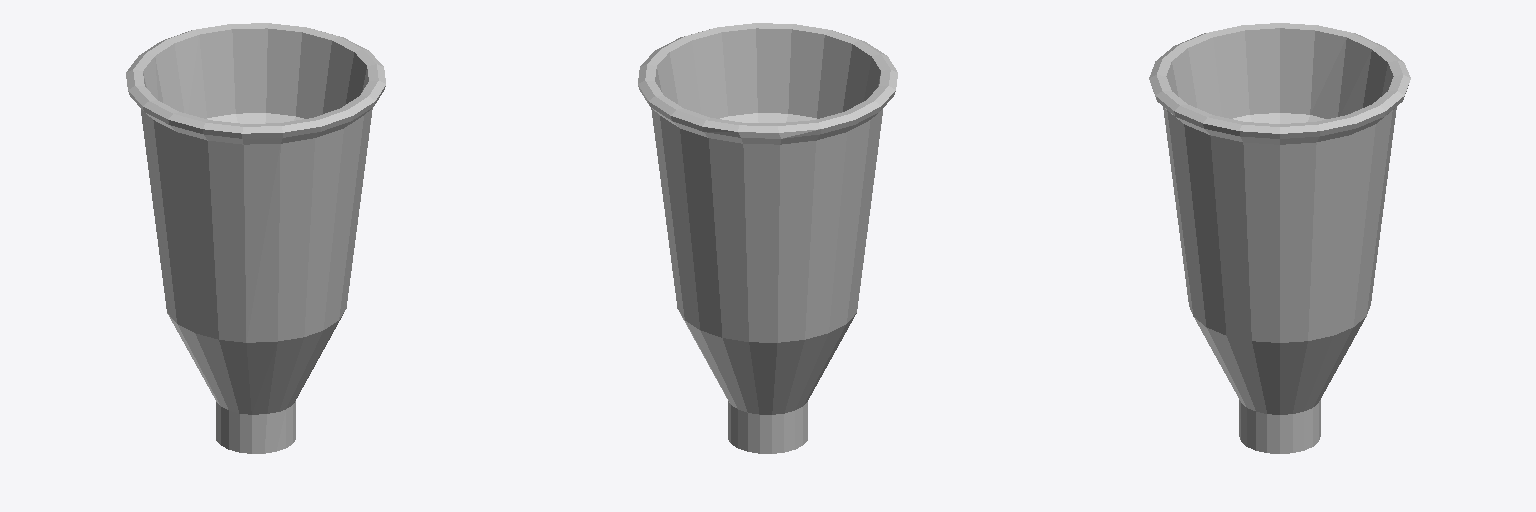
File: nozzle.obj
3 views of the same model, side by side, from view 1: azimuth 30°, elevation 25°; view 2: azimuth 150°, elevation 25°; view 3: azimuth 270°, elevation 25° (orthographic).
Parts seen in each view (by area): view 1: pCylinder3; view 2: pCylinder3; view 3: pCylinder3.
Part boxes in pixels (x1,y1,x2,y2): pCylinder3: (126,23,385,453); pCylinder3: (638,23,897,453); pCylinder3: (1149,23,1410,453).
Bounding box in the file's own units: 24.56 × 37.43 × 24.56.